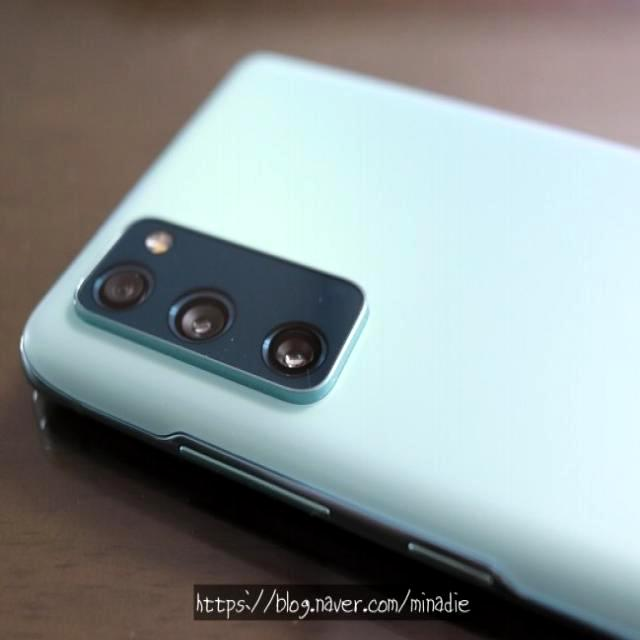lens_back: (242, 318, 326, 392), (164, 283, 229, 354), (95, 264, 150, 318)
